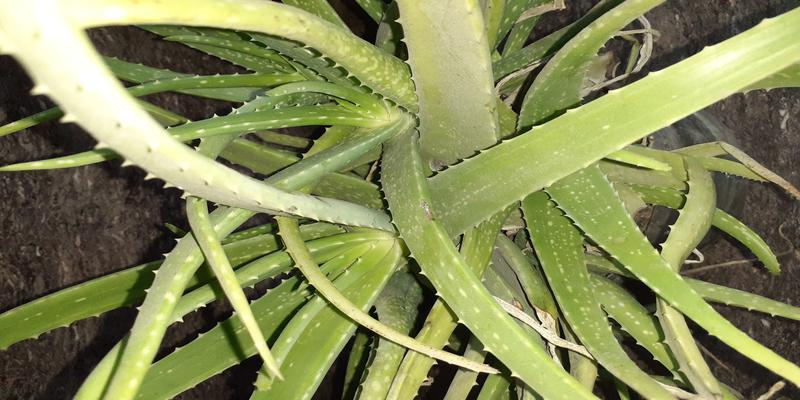Aloevera: (127, 47, 717, 369)
